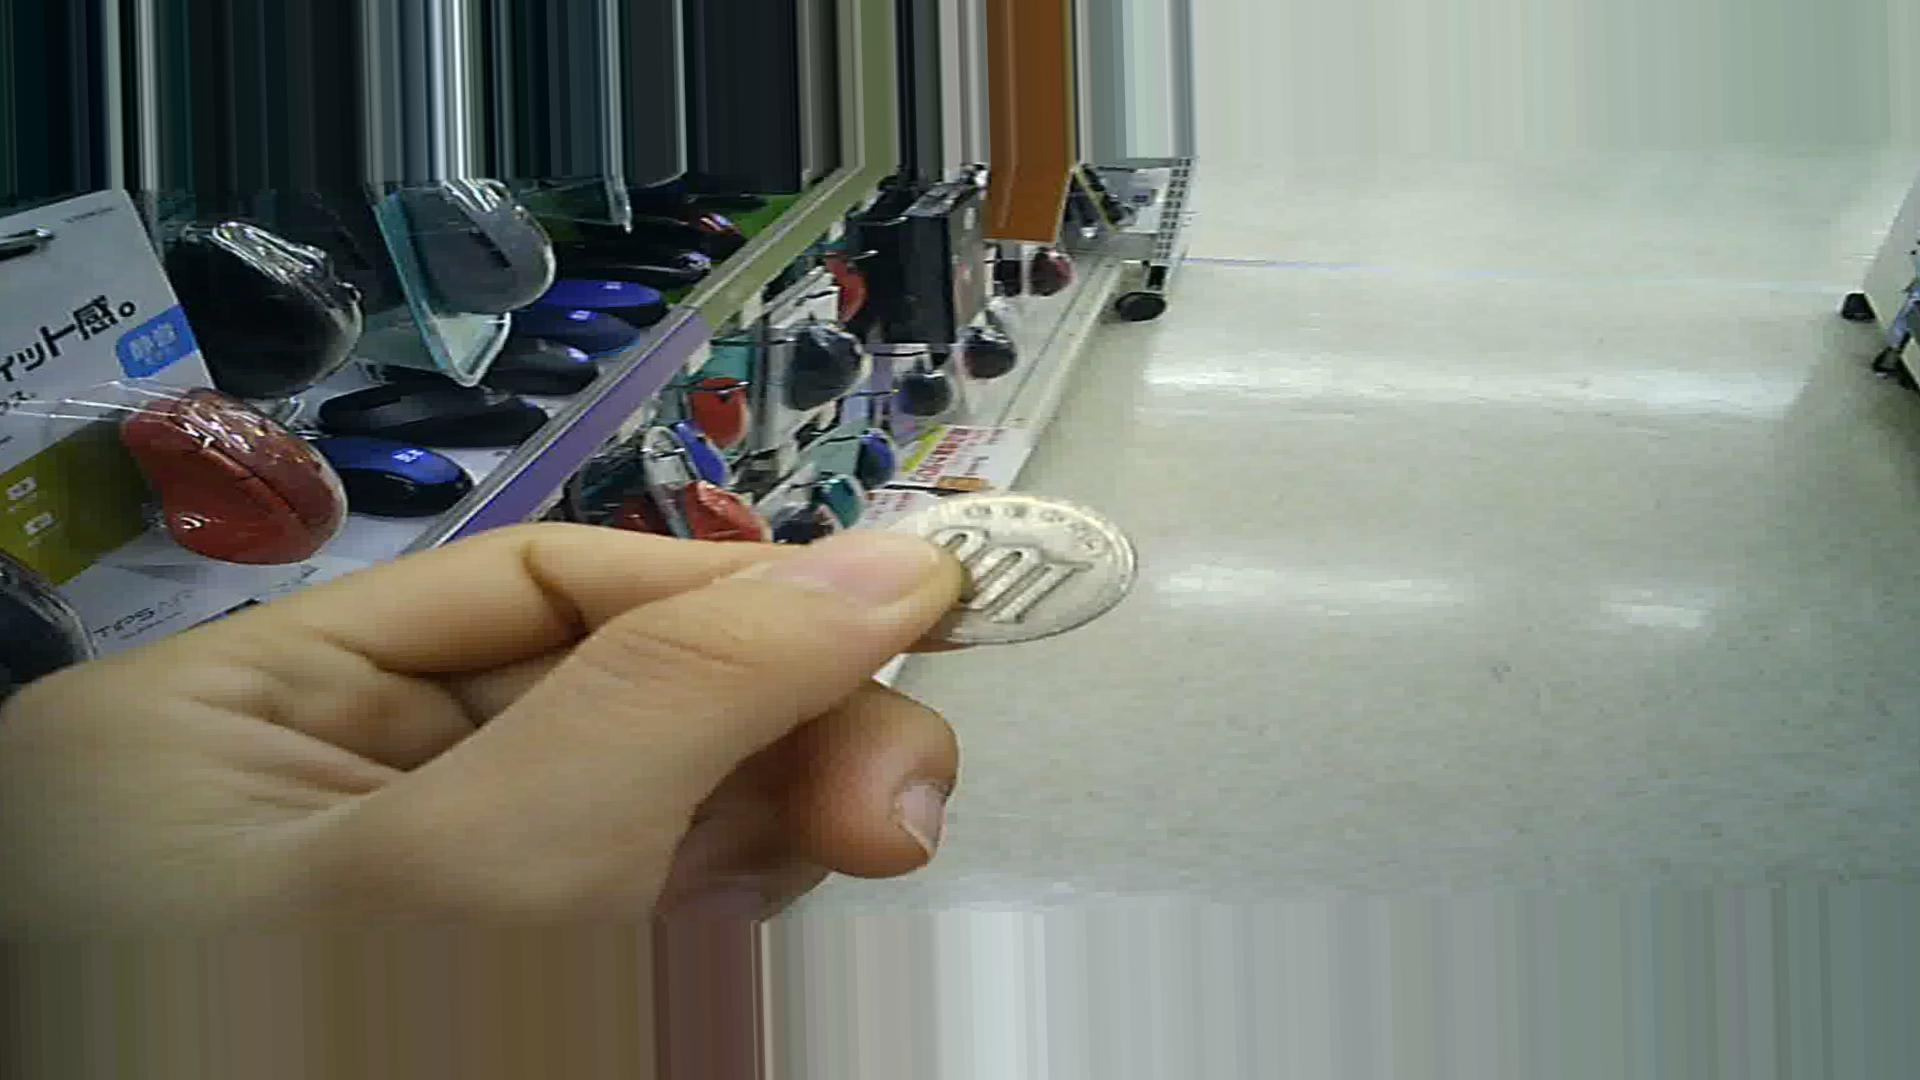100 Yen: (855, 479, 1131, 671)
